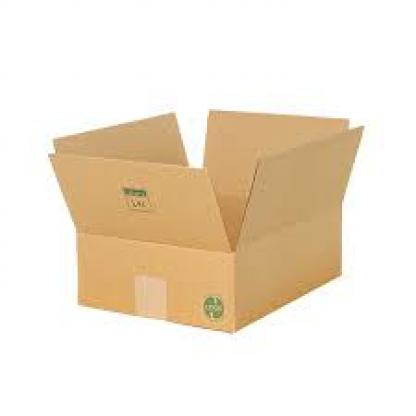paquete: (37, 89, 372, 348)
